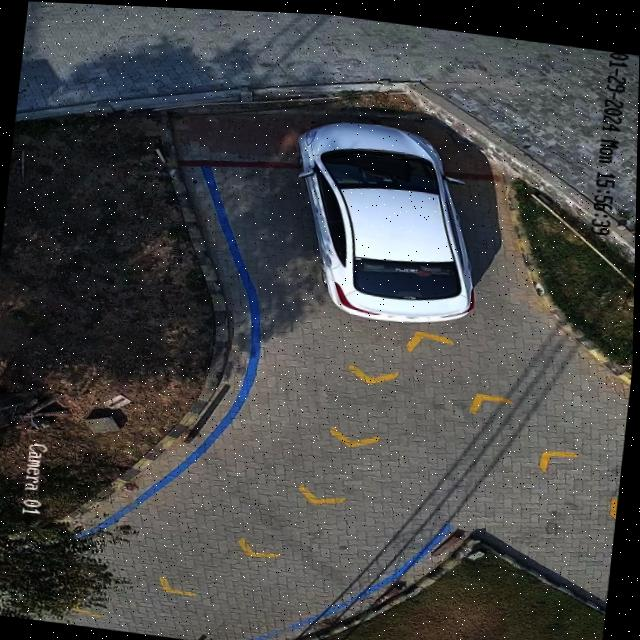car: (297, 118, 473, 319)
